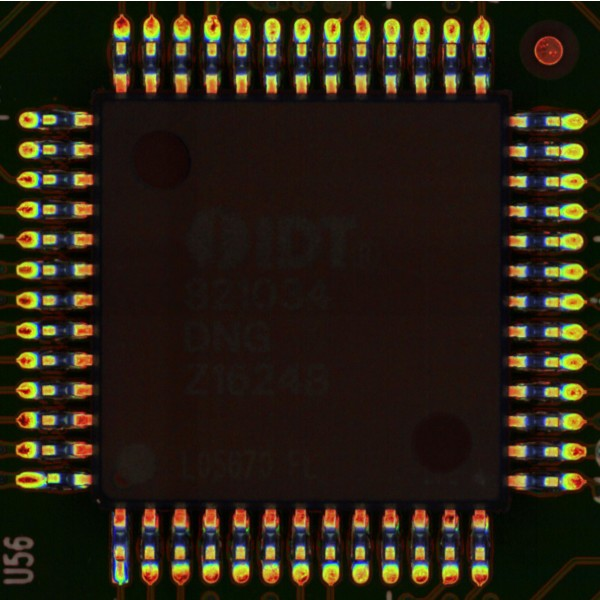Bad_podu: (115, 555, 125, 571)
